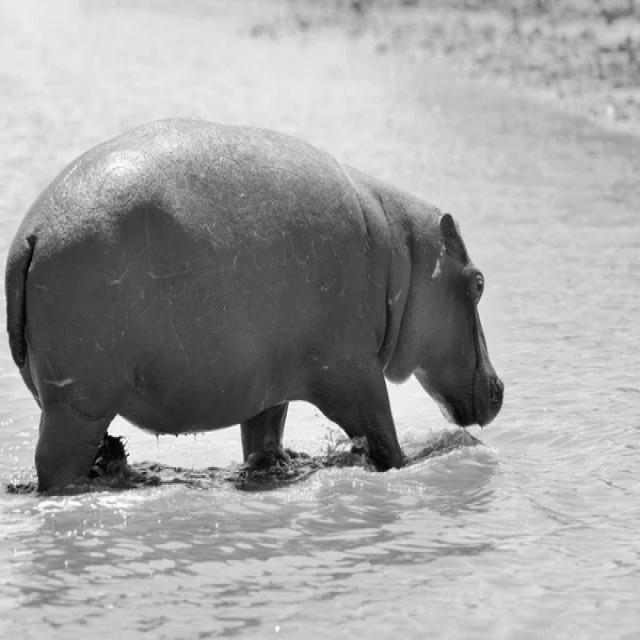Animal: (8, 120, 504, 490)
